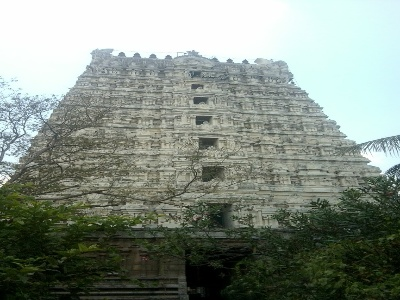gopura: (14, 43, 388, 219)
